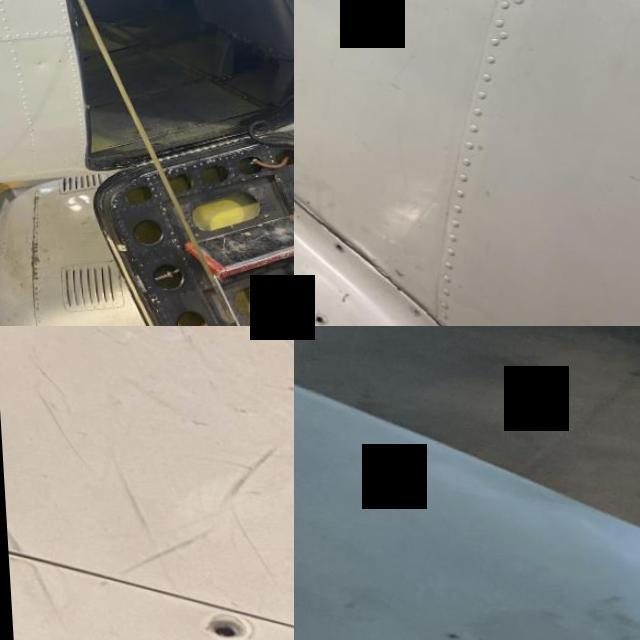Crack: (410, 305, 473, 326), (294, 286, 309, 313)
Dent: (30, 54, 44, 69)
Missing_Fastener: (192, 613, 240, 640), (304, 313, 321, 323), (324, 242, 341, 252)
